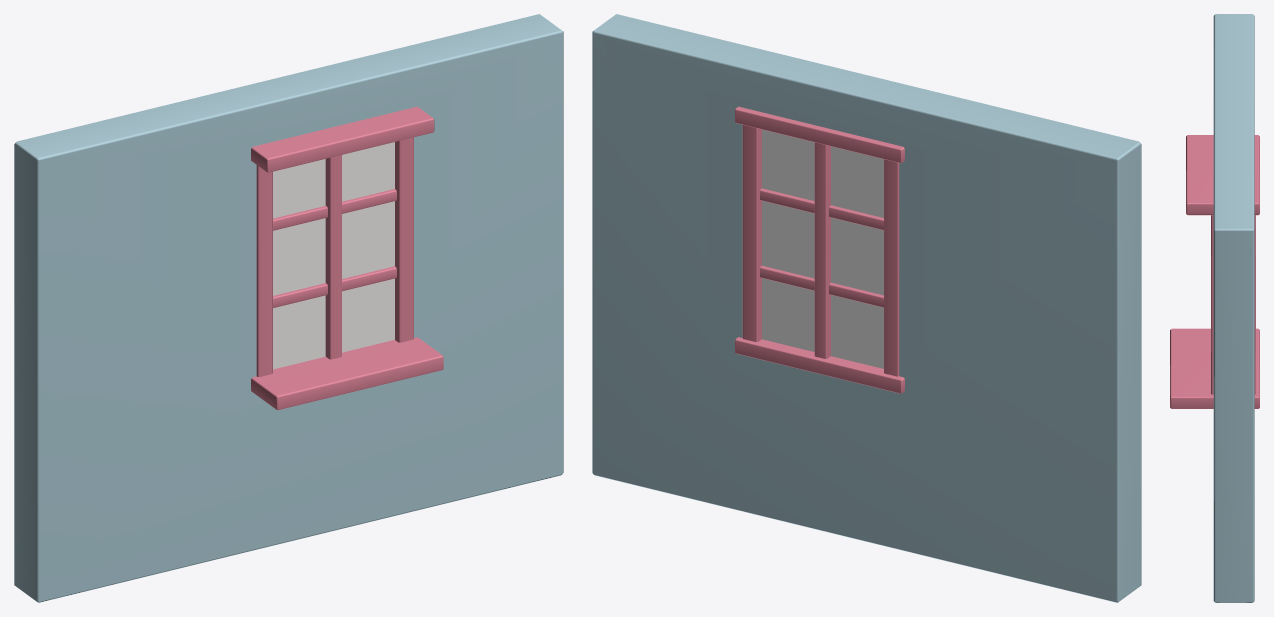
The model's file is Wall_blue_window.glb.
The picture shows the model from 3 angles, left to right: view 1: azimuth 30°, elevation 25°; view 2: azimuth 150°, elevation 25°; view 3: azimuth 270°, elevation 25°; orthographic projection. The views are drawn at different scales.
Parts seen in each view (by area): view 1: Wall_36; view 2: Wall_36; view 3: Wall_36.
Boxes of the visible parts, <box> form: Wall_36: <box>14,14,563,602</box>; Wall_36: <box>592,14,1141,602</box>; Wall_36: <box>1170,14,1259,602</box>.
Size of the model in its own units: 4.98 by 4.02 by 0.8735.
Materials: 2 (2 with a texture image).
